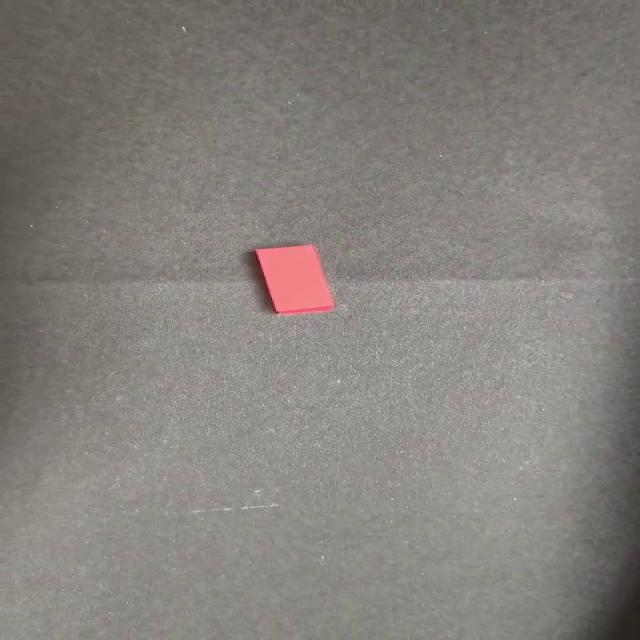red block: (252, 243, 335, 314)
